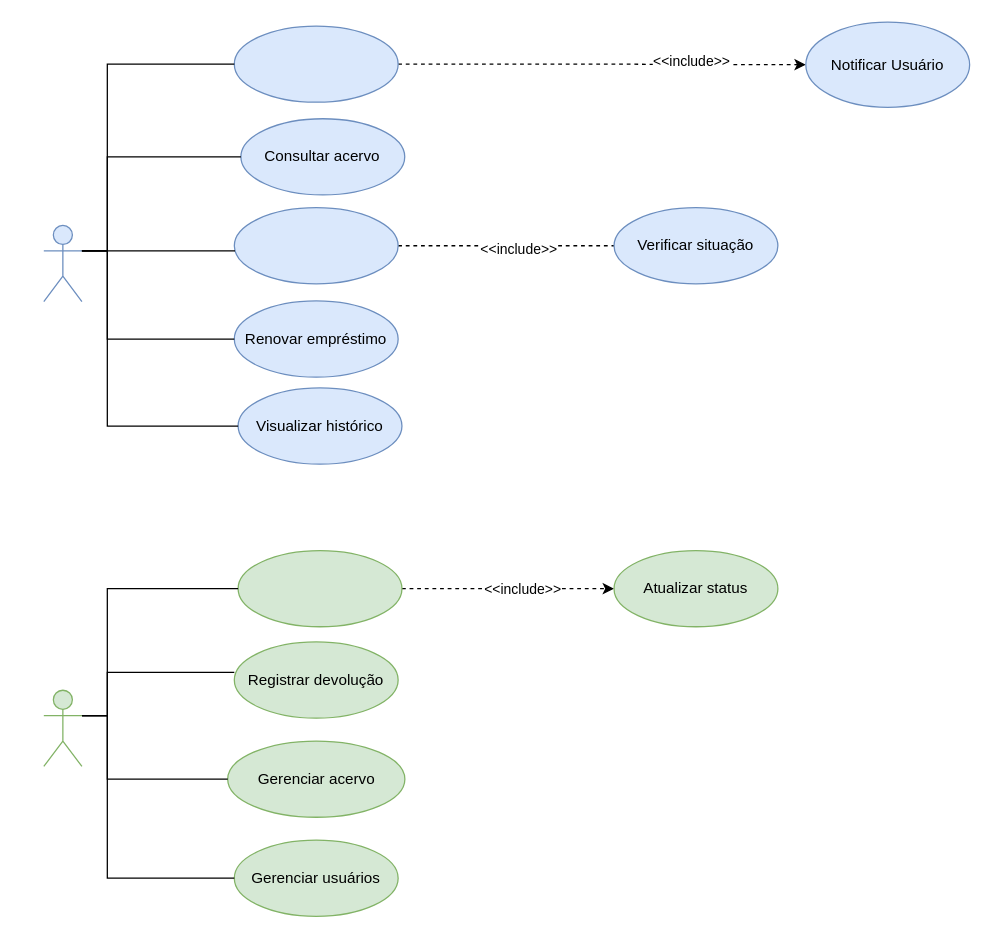
This 992x939 diagram has some shape labels left out. Each missing label, with the box of its shape:
Bibliotecário: (43, 689, 82, 766)
Realizar reserva: (233, 206, 398, 284)
Registrar empréstimo: (237, 549, 402, 627)
Registrar-se: (233, 25, 398, 102)
Usuário: (43, 224, 82, 302)
